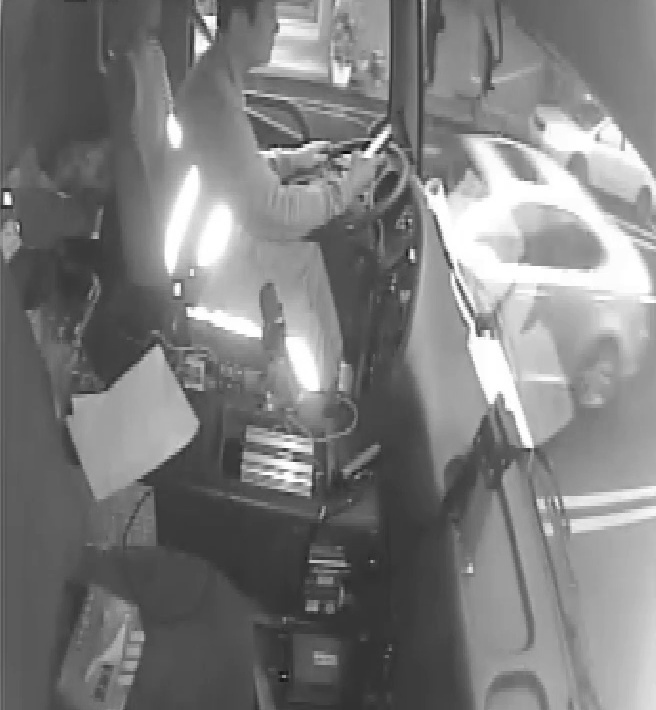cellphone: (356, 121, 396, 170)
